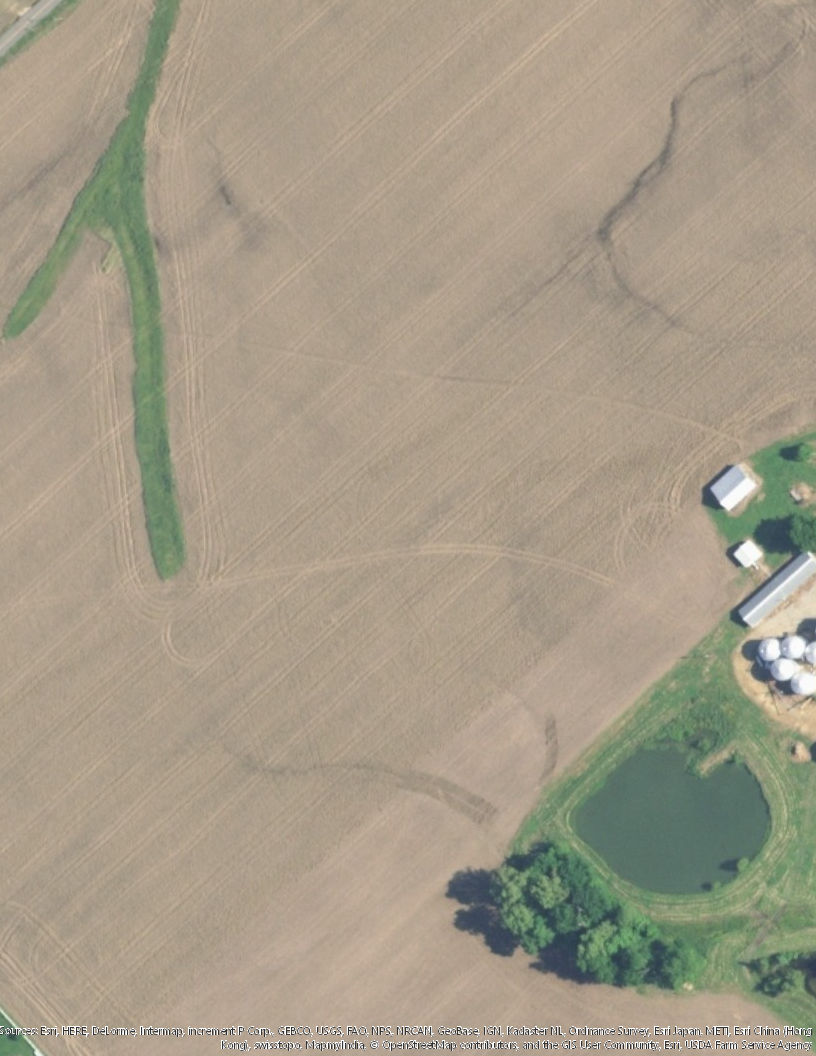cafo: (729, 548, 811, 631)
